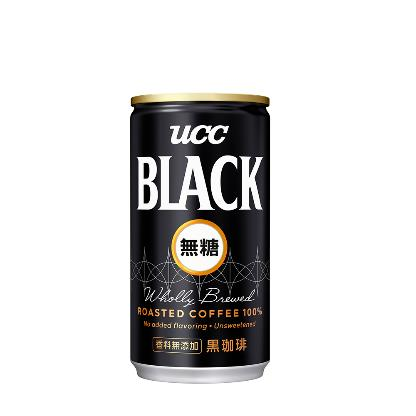Can: (131, 93, 269, 383)
